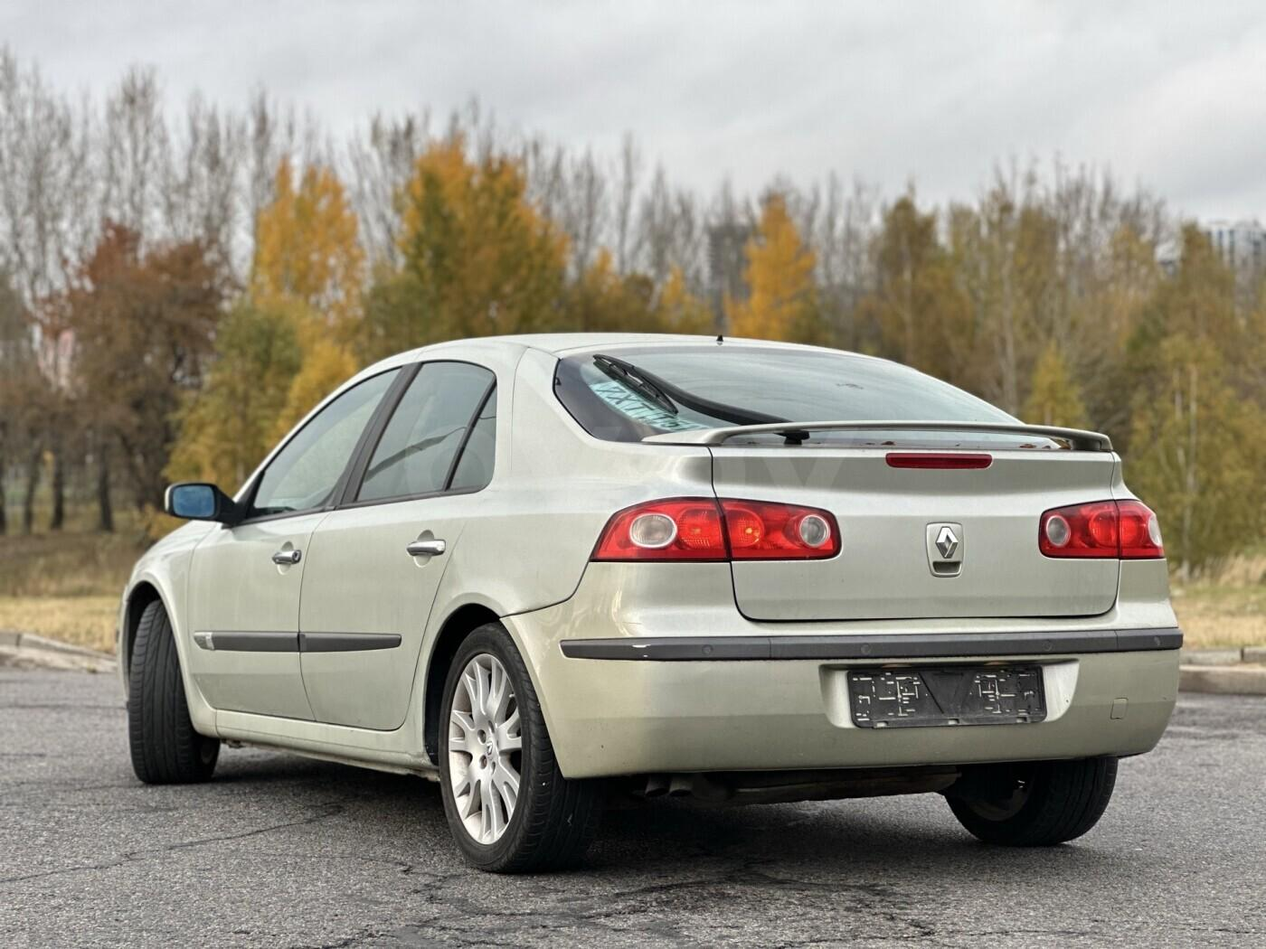Laguna_2005-2007: (111, 329, 1181, 877)
